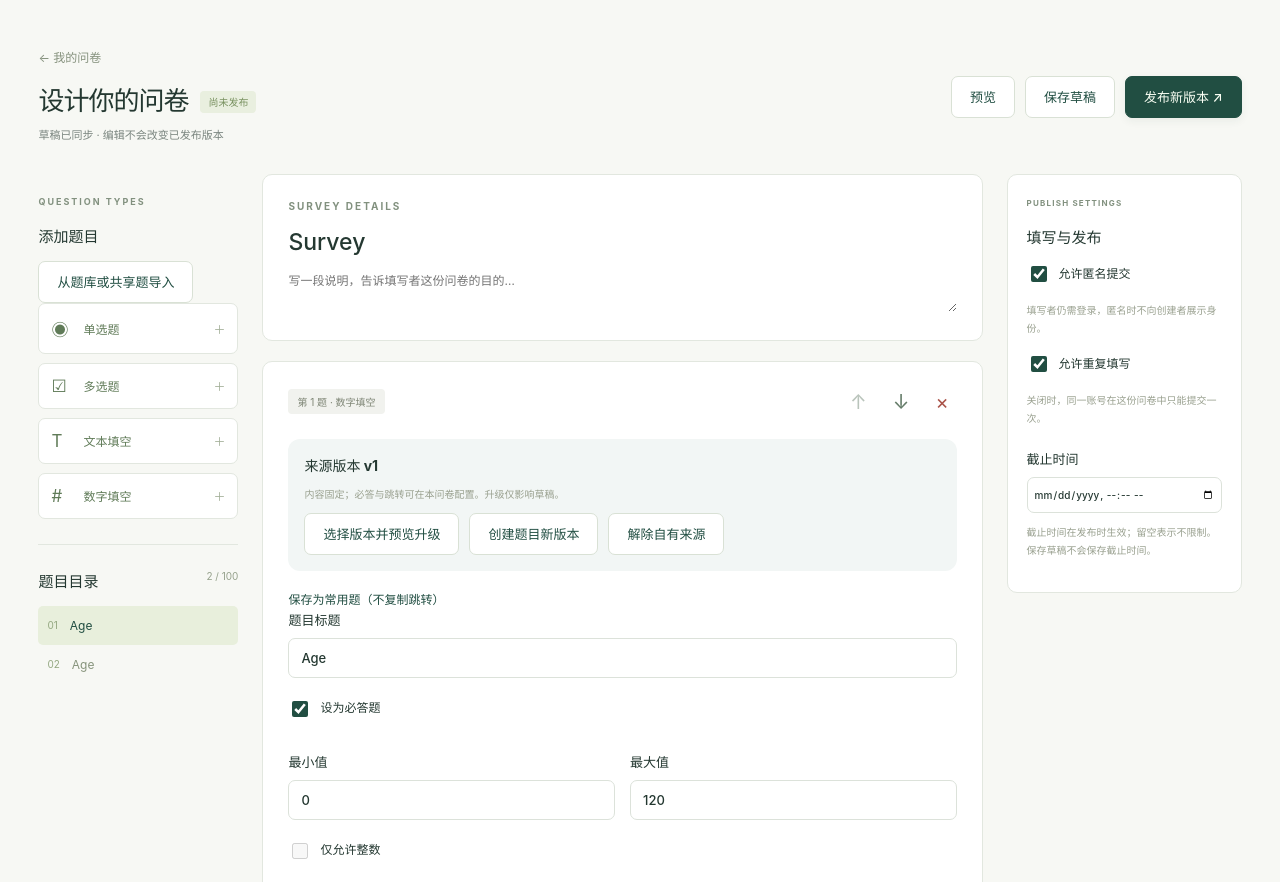
Test case: failed upgrade confirmation invalidates preview and requires fresh preview
The image size is (1280, 882).
Click the button "选择版本并预览升级".
click(382, 534)  # box [304, 513, 459, 555]
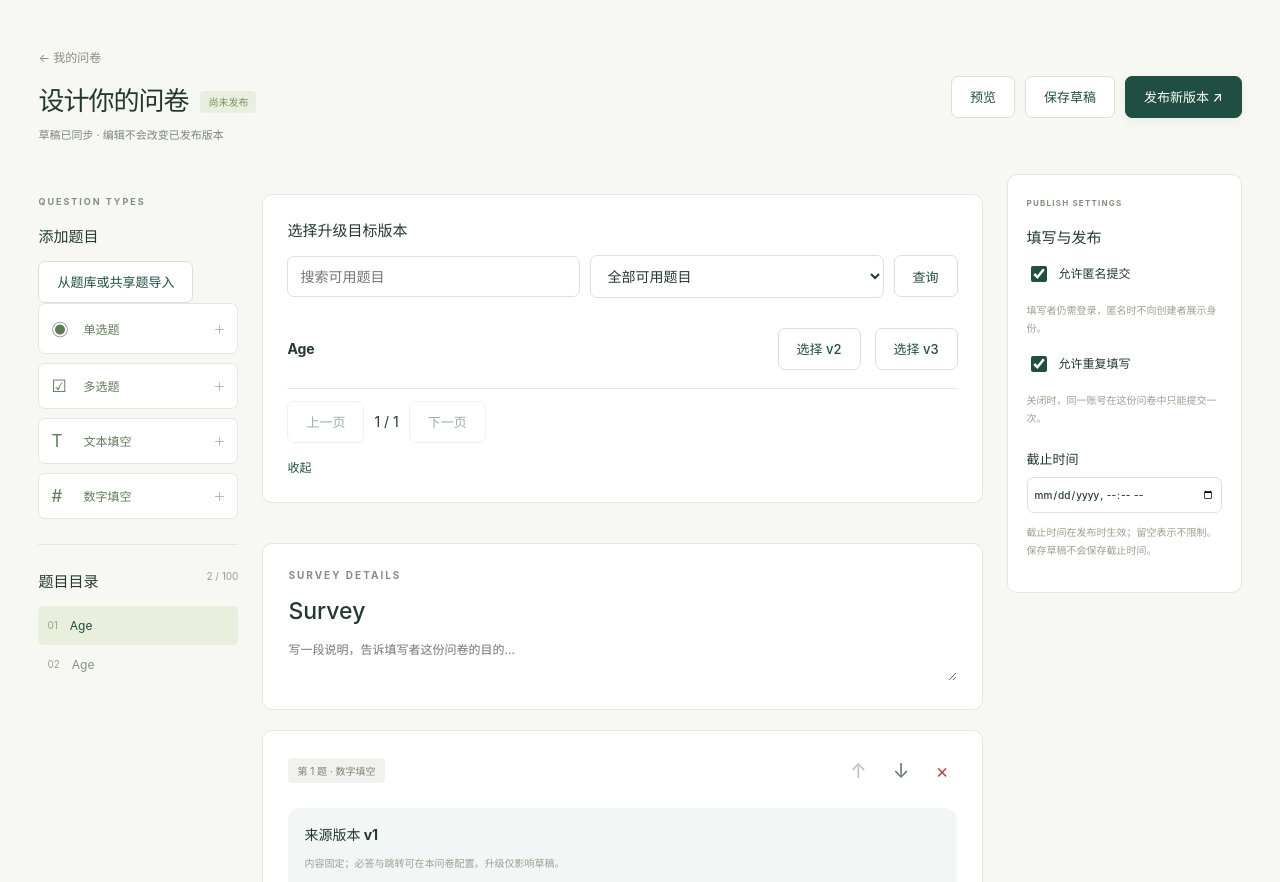
Click the button "选择 v2".
click(819, 349)  # box [778, 328, 861, 370]
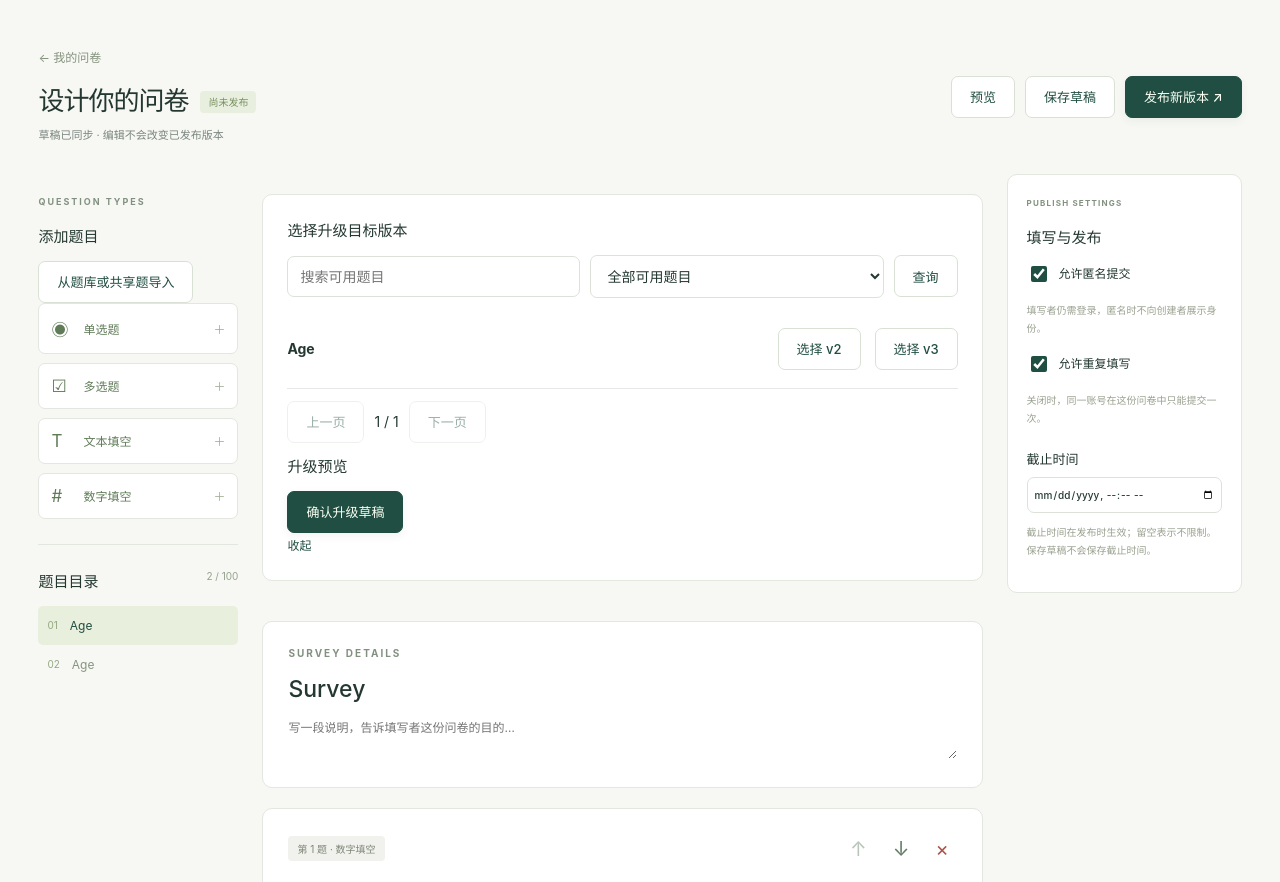
Click the button "确认升级草稿".
click(345, 512)  # box [287, 491, 403, 533]
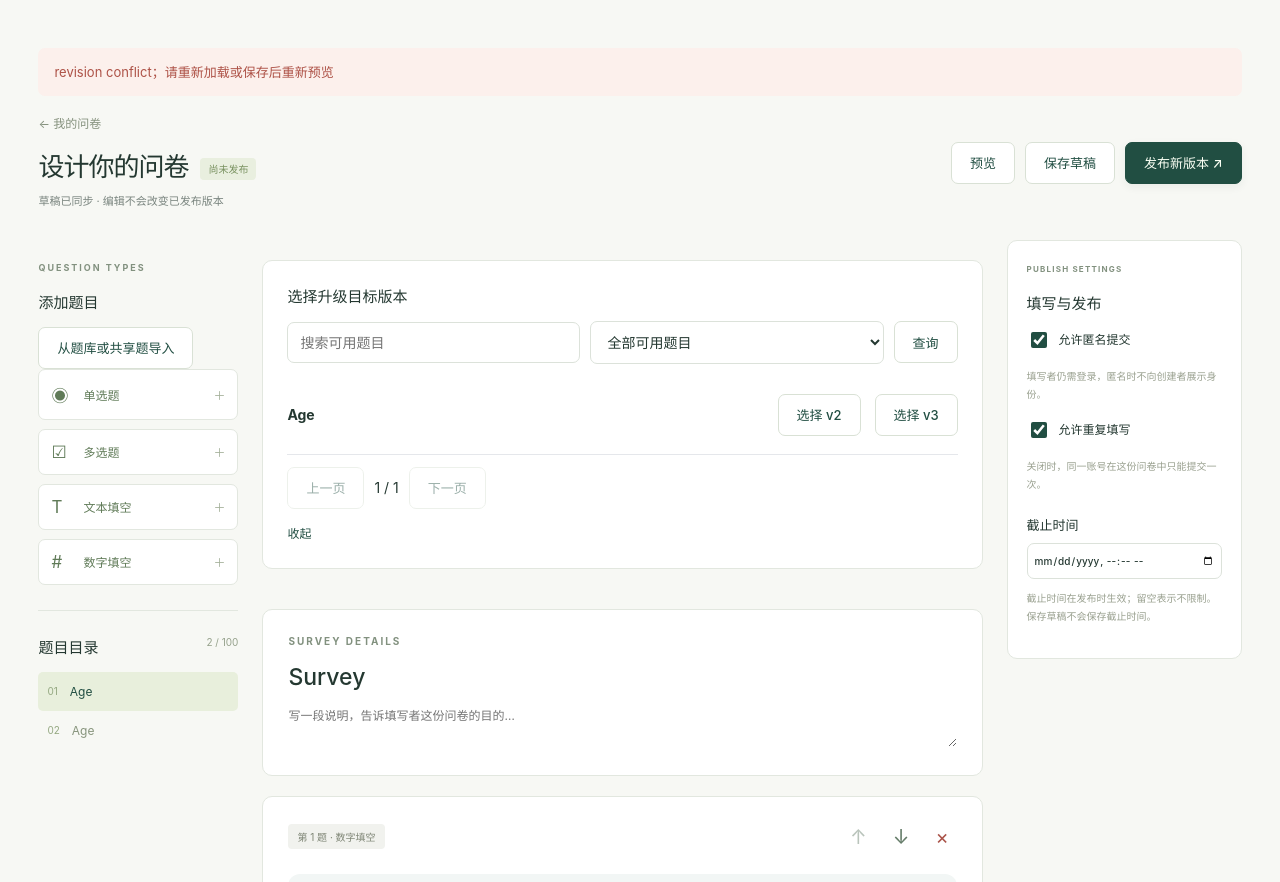
Now the text "确认升级草稿" is gone
Now the text "请重新加载或保存后重新预览" is shown, box [54, 64, 334, 80]
